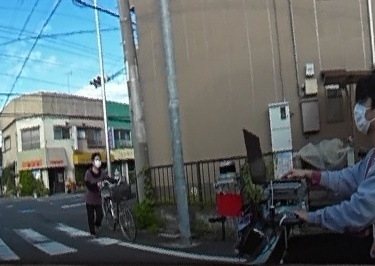person: (327, 64, 375, 266), (85, 151, 116, 237)
